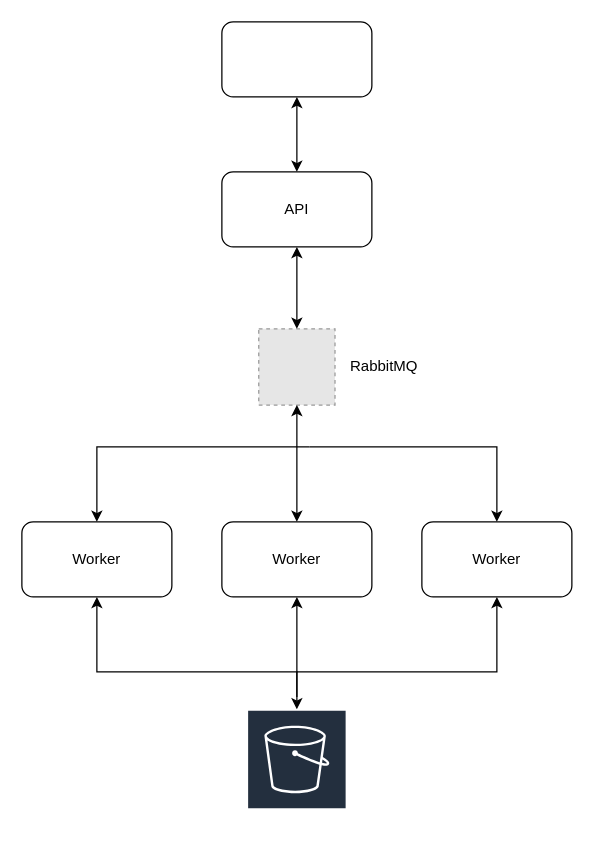
This 594x856 diagram has some shape labels left out. Grey dashed boxes stand in for pictures. Each missing label, with the centre of its shape:
"Amazon S3" goes at point 296,771.
"Client" goes at point 296,59.
